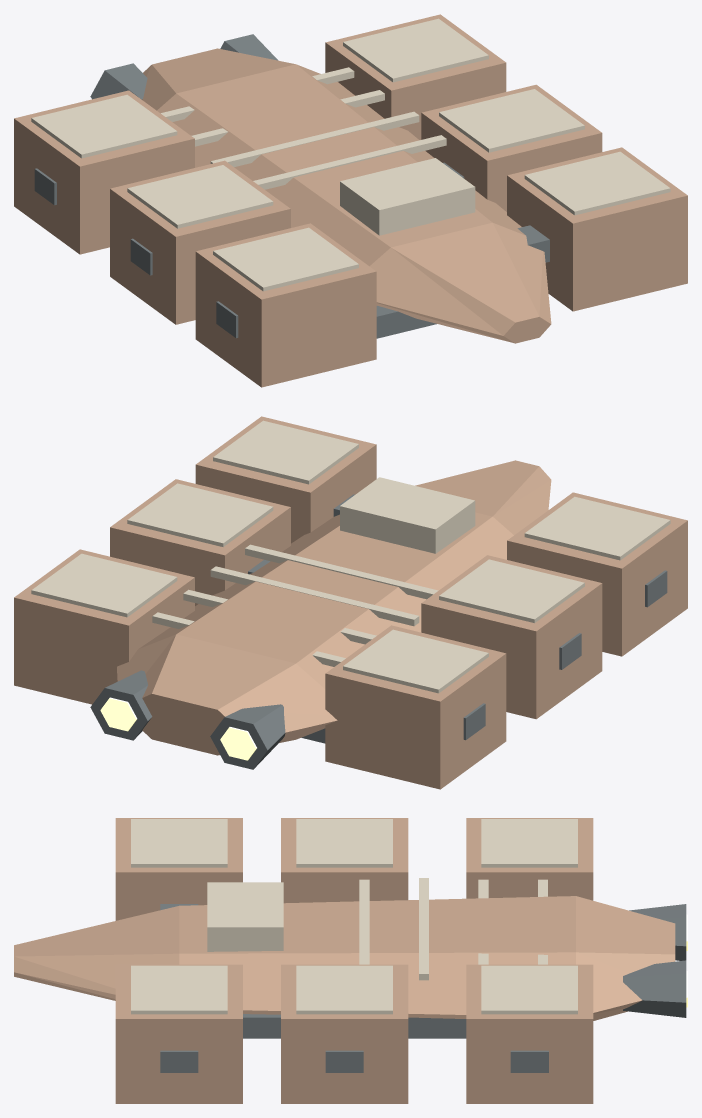
3 renders of one model, top to bottom at view 1: azimuth 30°, elevation 25°; view 2: azimuth 150°, elevation 25°; view 3: azimuth 270°, elevation 25°, orthographic. The views are drawn at different scales.
Bounding box in the file's own units: 7.63 × 1.73 × 10.71.
